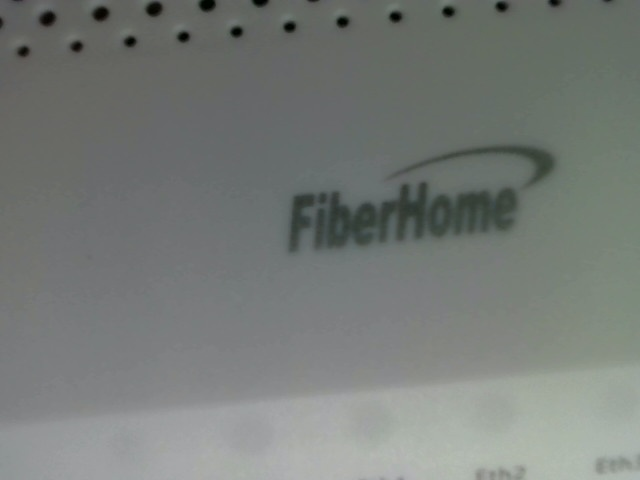AI_FiberHome: (263, 130, 579, 270)
